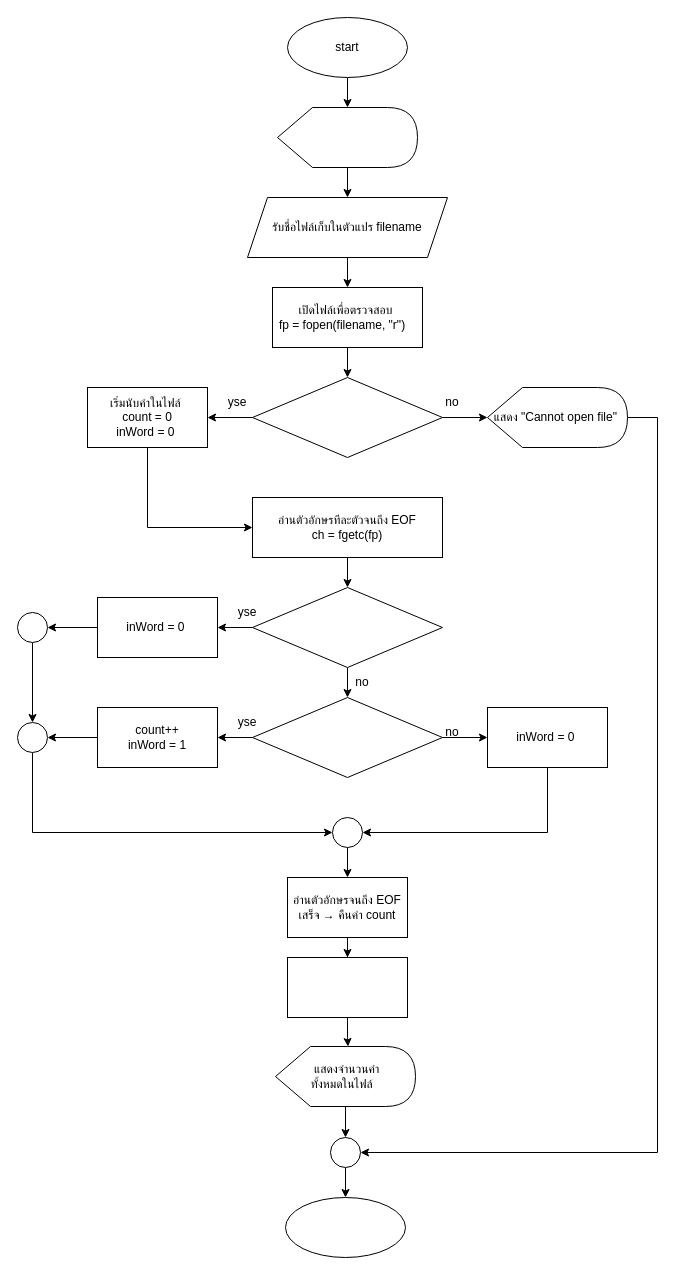
Image size: 683x1275. Some labels were removed from this diagram. Here are the shapes that lost their labels. From the top down, the centre of each, then its label:
(347,137): ถามชื่อไฟล์จากผู้ใช้
(347,417): เปิดไฟล์สำเร็จ ?
(347,627): ตัวอักษรเป็นช่องว่าง ?
(347,737): inWord = 0 ?
(347,987): ปิดไฟล์ fp
(345,1227): end
